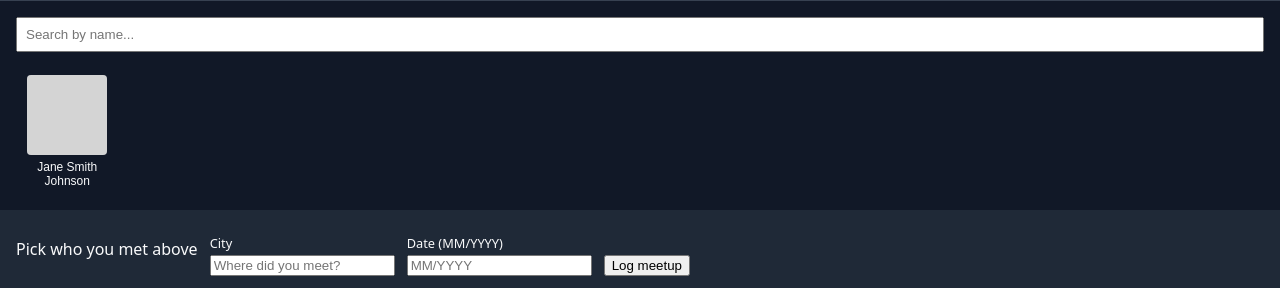
Scenario: ClassMeetupBoard › requires a city before submitting
Step 1. Click the button with aria-label "Select Jane Smith Johnson" → (67,131), box [16,68,118,194]
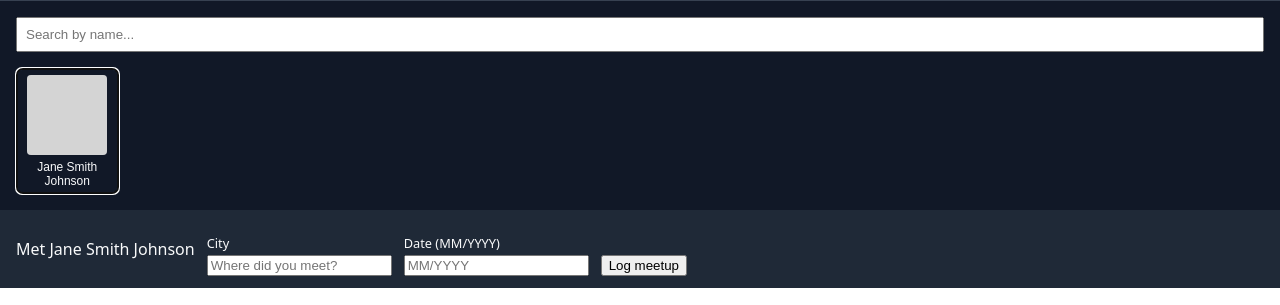
Expected: the text "Met Jane Smith Johnson" is shown, [16,238,195,260]
Step 2. Click the button "Log meetup" → (644,266), box [601,255,687,276]
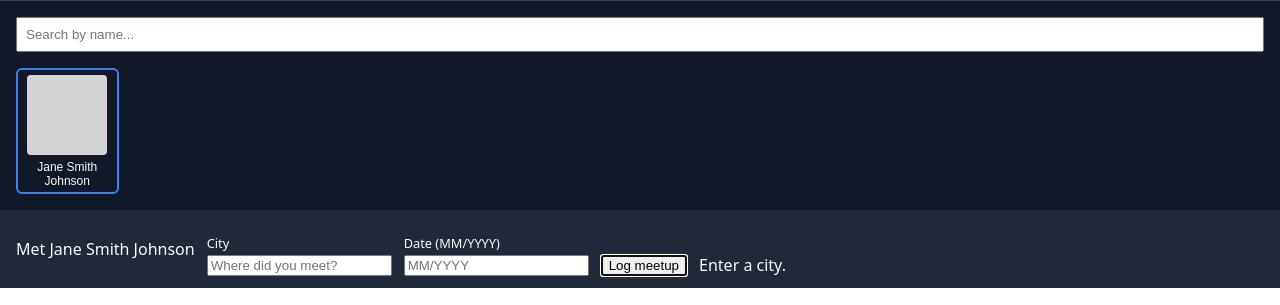
Expected: the message reads "Enter a city.", [699,254,786,276]
